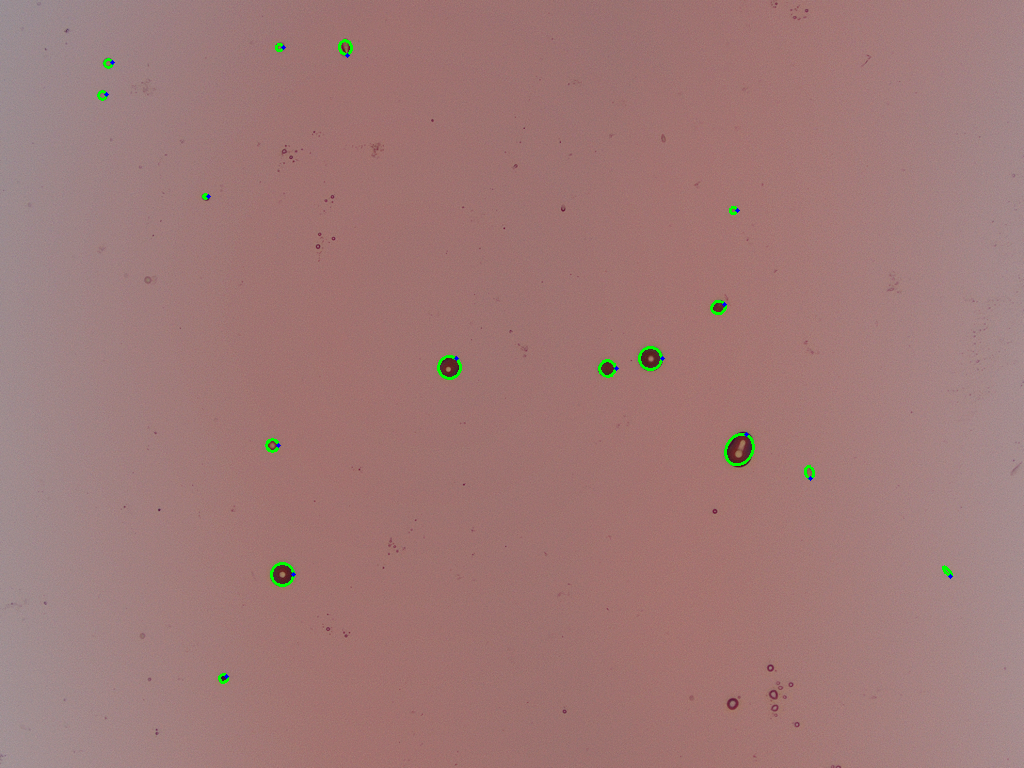circle: (639, 346, 662, 370), (271, 563, 293, 585), (266, 439, 278, 451), (103, 58, 112, 67), (97, 90, 106, 99), (275, 43, 283, 51), (730, 207, 737, 214), (202, 194, 208, 199)
ellipse: (597, 360, 616, 376), (712, 299, 725, 315), (341, 38, 350, 55)
